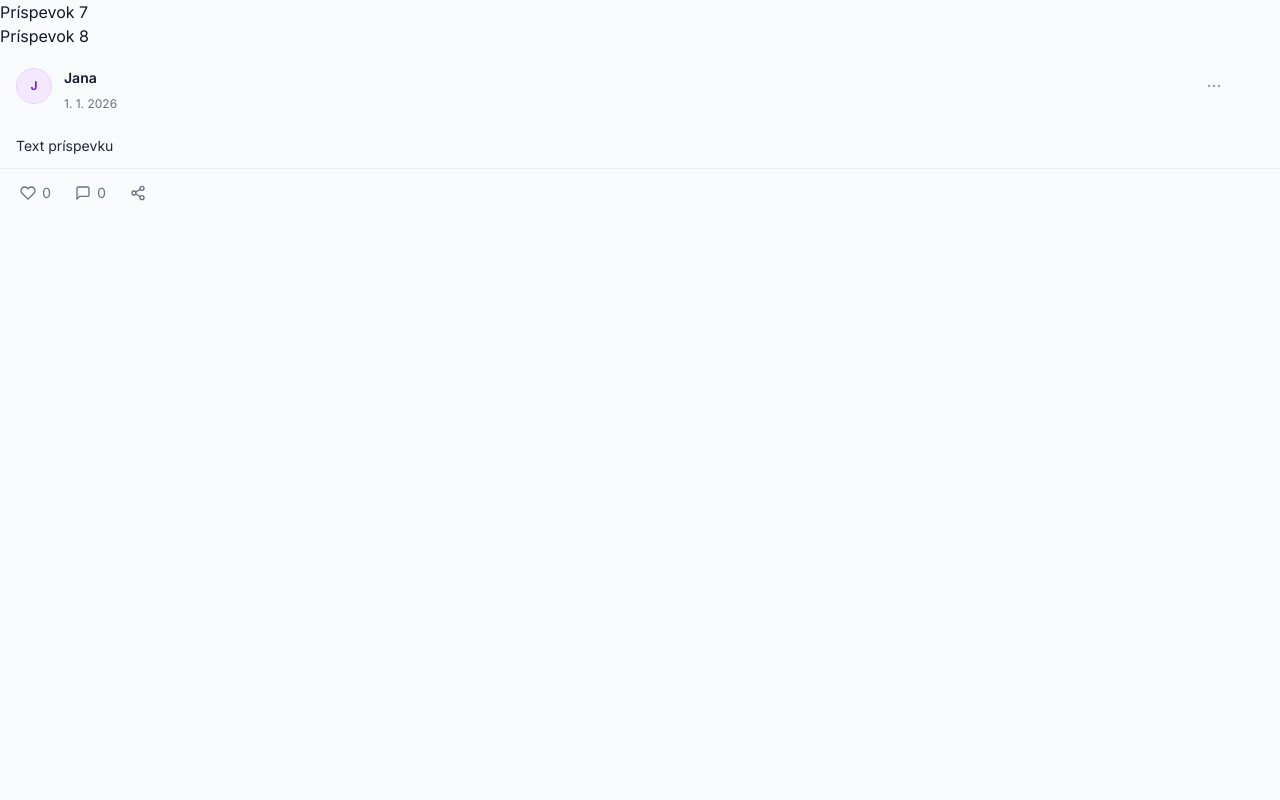
Test: removes the post from the feed underneath the window
The image size is (1280, 800).
Click the button with test id "feed-post-menu-trigger".
click(1214, 86)  # box left=1196, top=68, right=1232, bottom=104
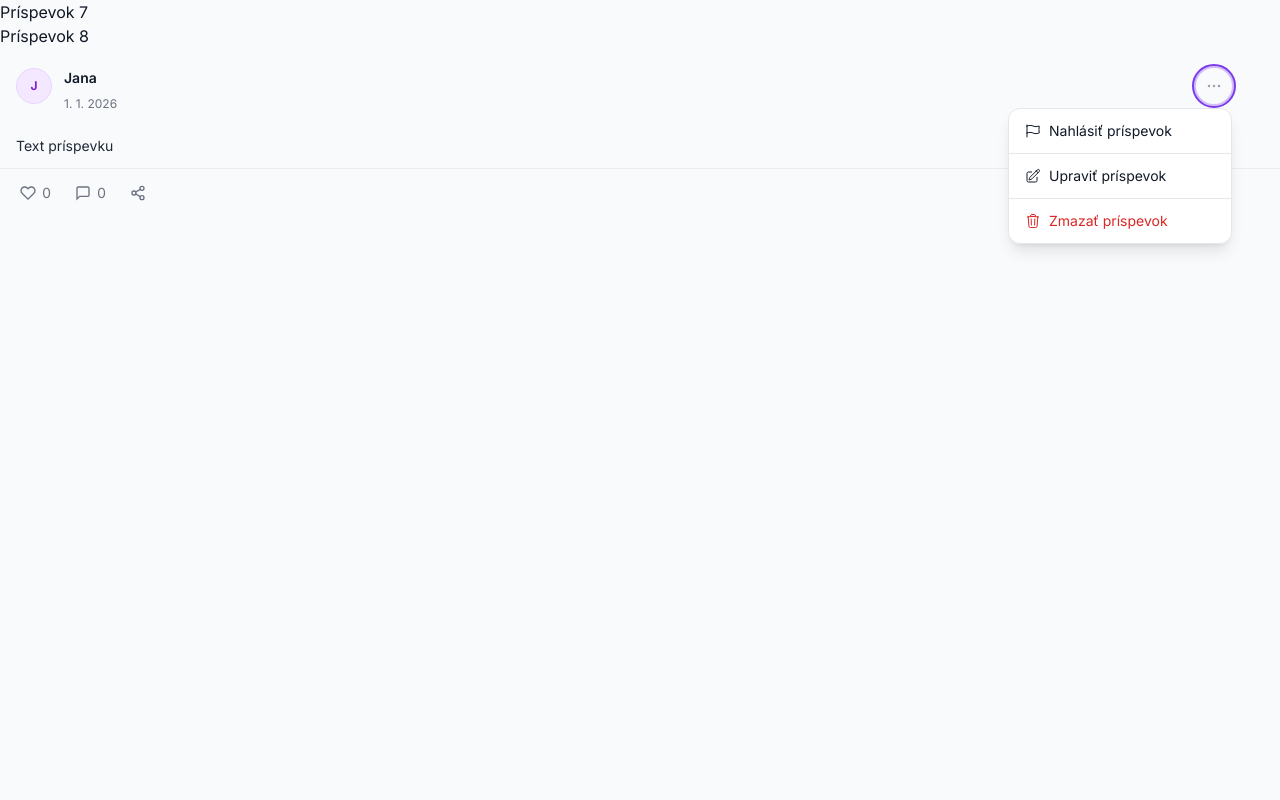
Click the menu item with test id "feed-post-delete".
click(1120, 220)  # box left=1009, top=198, right=1231, bottom=243
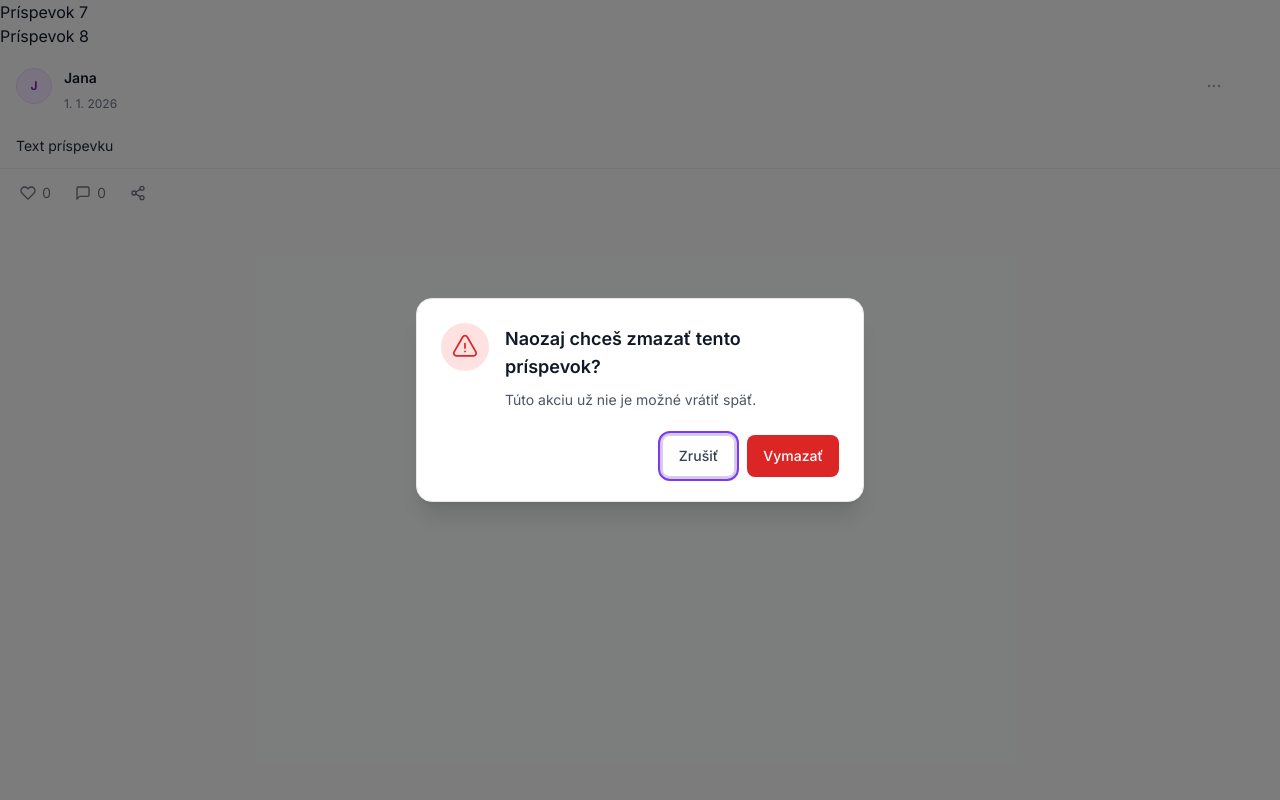
Click the button with test id "feed-post-delete-confirm-action".
click(793, 456)  # box left=747, top=435, right=839, bottom=477
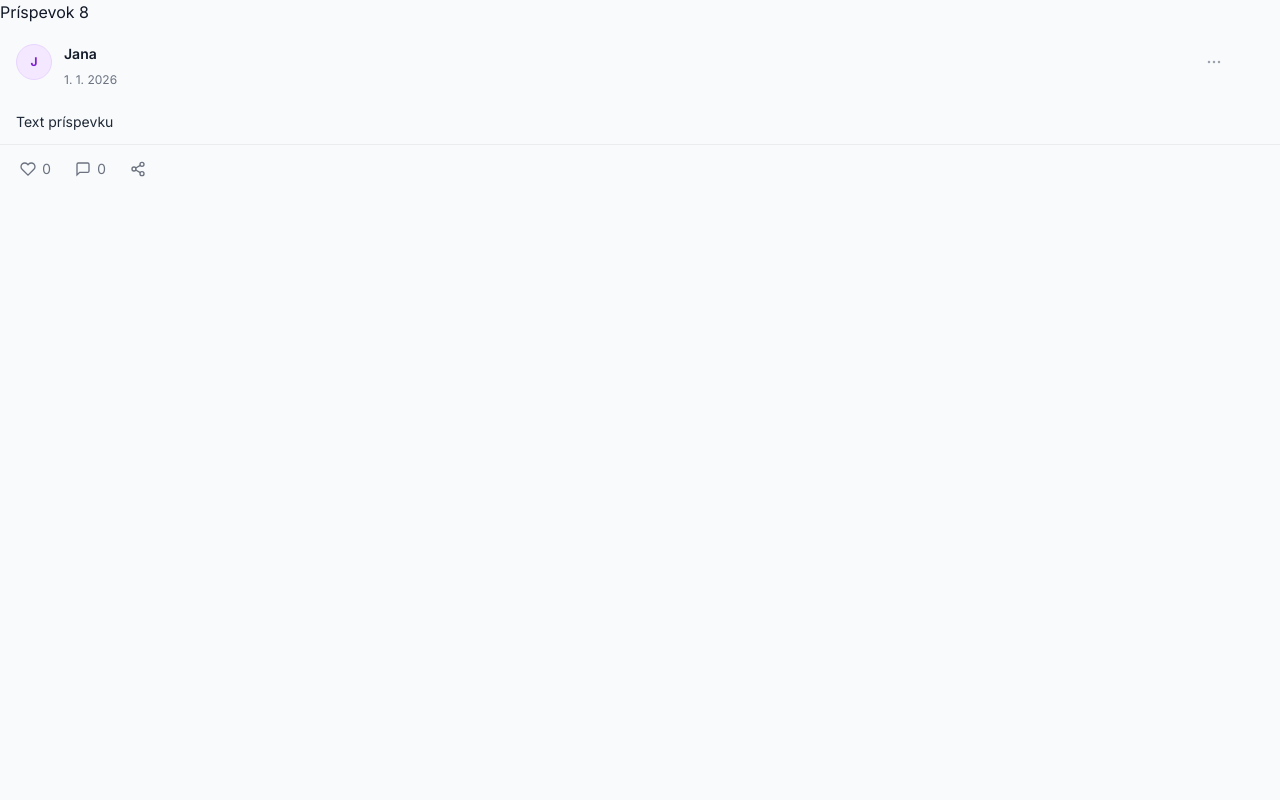
Expected: the text "Príspevok 8" is shown, left=0, top=2, right=89, bottom=22
Now the text with test id "karta-7" is gone
